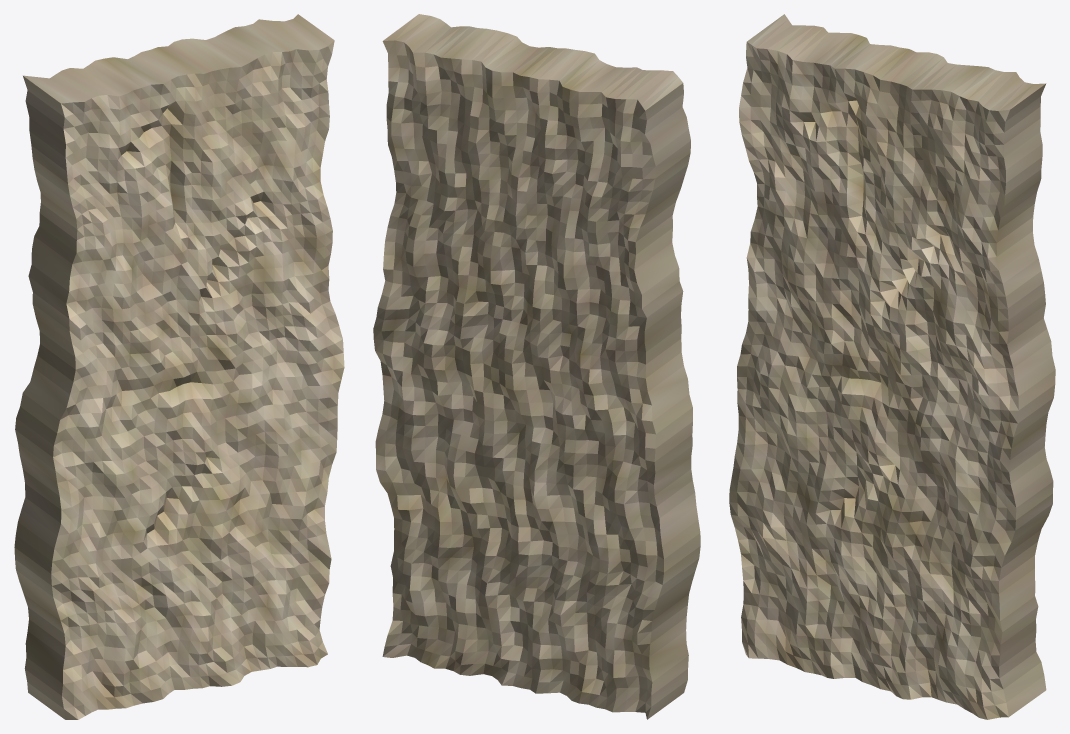
Rendered from inscribed-estela.gltf.
The picture shows the model from 3 angles, left to right: view 1: azimuth 30°, elevation 25°; view 2: azimuth 150°, elevation 25°; view 3: azimuth 330°, elevation 25°; orthographic projection.
Size of the model in its own units: 1.33 by 2.7 by 0.3715.
